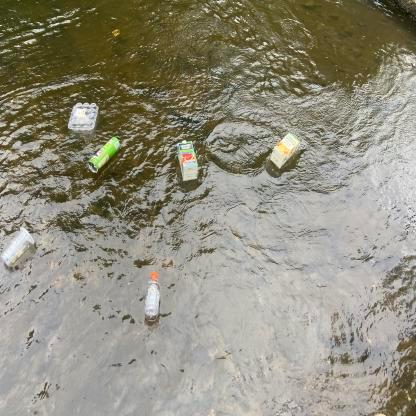Metal: (86, 133, 122, 179)
Plastic: (0, 224, 37, 269), (66, 98, 102, 134), (141, 268, 162, 322)
